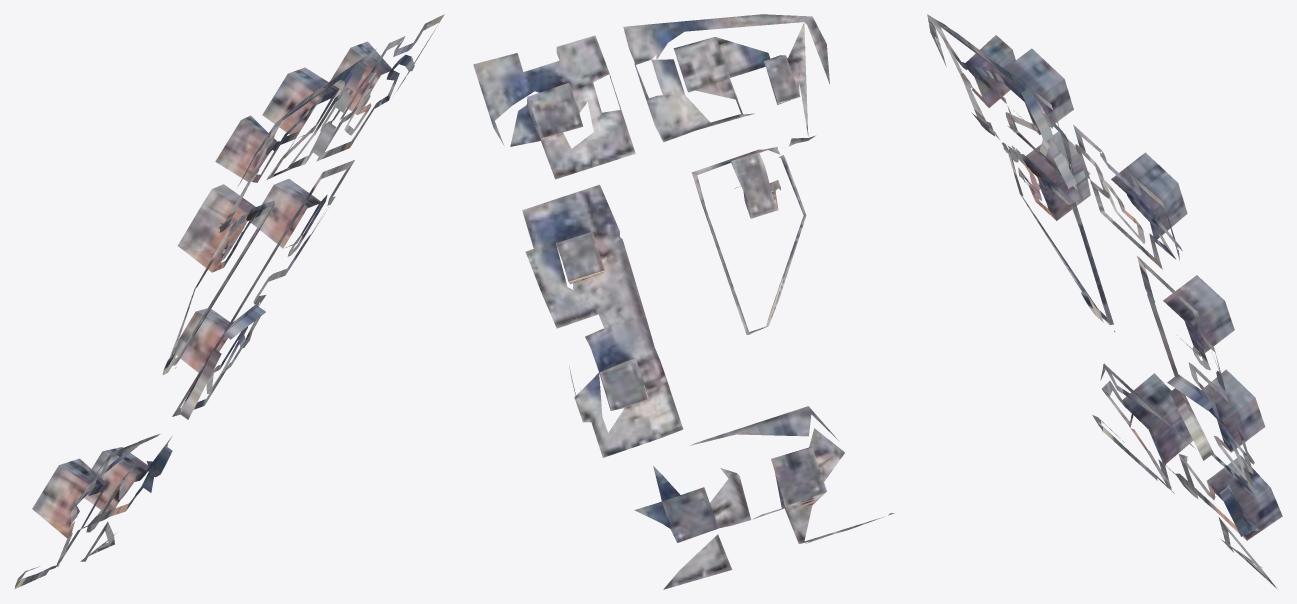
3 views of the same model, side by side, from view 1: azimuth 30°, elevation 25°; view 2: azimuth 150°, elevation 25°; view 3: azimuth 270°, elevation 25° (orthographic). The views are drawn at different scales.
Bounding box in the file's own units: 102 × 116 × 64.8.
1 material, 1 textured.
